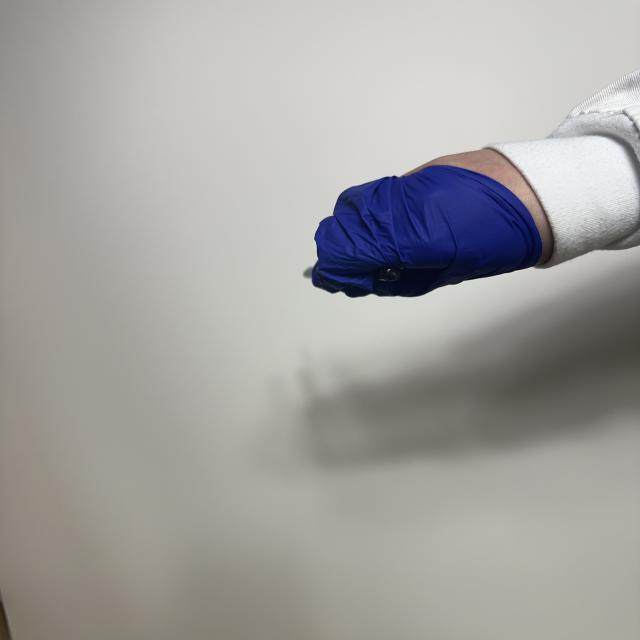glove_partial: (307, 143, 563, 302)
